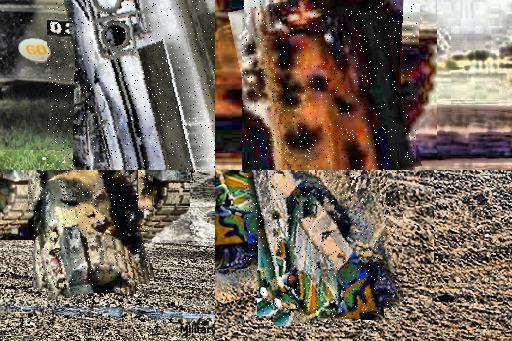tanks: (244, 1, 418, 171), (67, 1, 216, 171), (248, 171, 402, 327), (30, 171, 152, 300)
